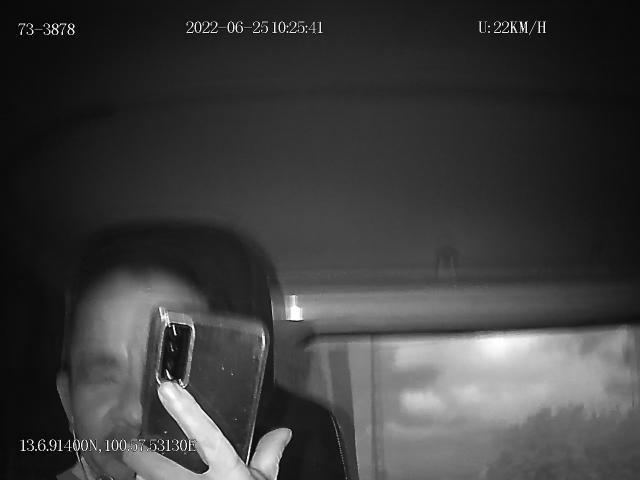PhoneUse: (135, 308, 269, 480)
